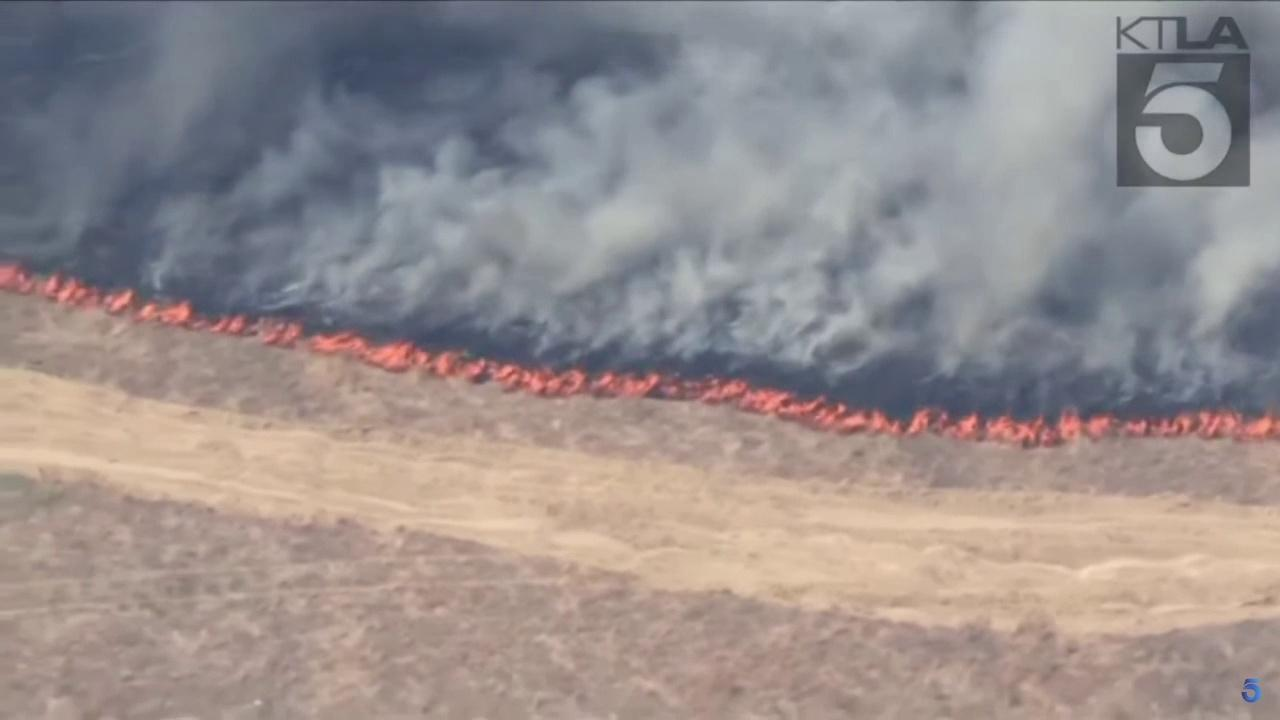fire: (0, 255, 1280, 440)
smoke: (0, 0, 1280, 412)
